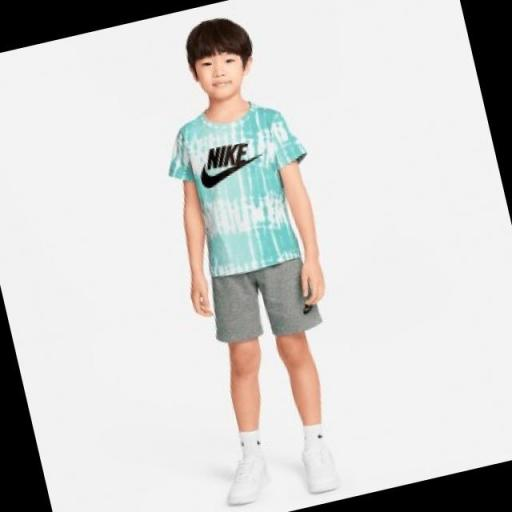Nike: (198, 162, 256, 189), (202, 140, 252, 171)
